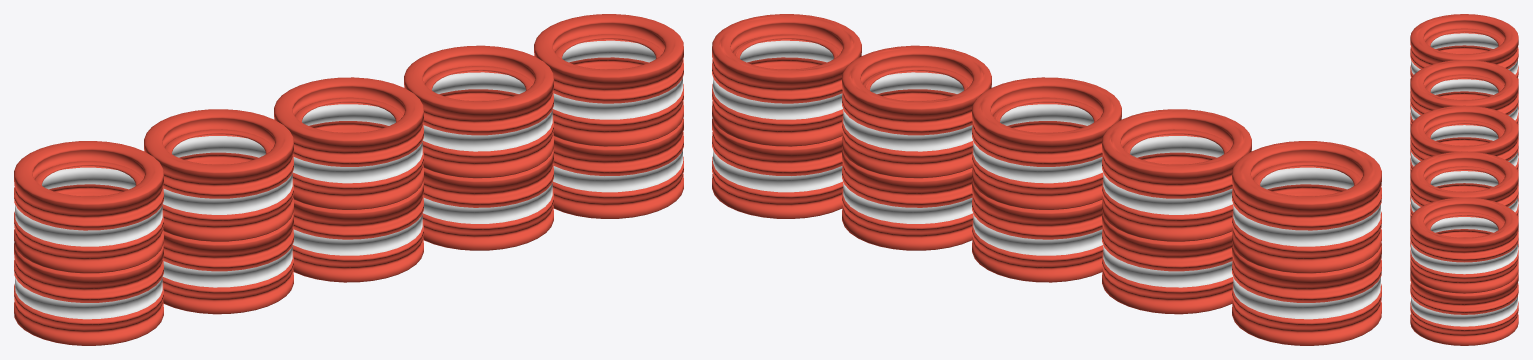
File: pneumatics.fbx
The picture shows the model from 3 angles, left to right: view 1: azimuth 30°, elevation 25°; view 2: azimuth 150°, elevation 25°; view 3: azimuth 270°, elevation 25°; orthographic projection. The views are drawn at different scales.
Visible parts, largest first — view 1: Cylinder.010; view 2: Cylinder.010; view 3: Cylinder.010.
Part boxes in pixels (x1,y1,x2,y2): Cylinder.010: (14,14,683,345); Cylinder.010: (712,14,1381,345); Cylinder.010: (1410,14,1518,345).
Size of the model in its own units: 1000 by 214 by 200.
